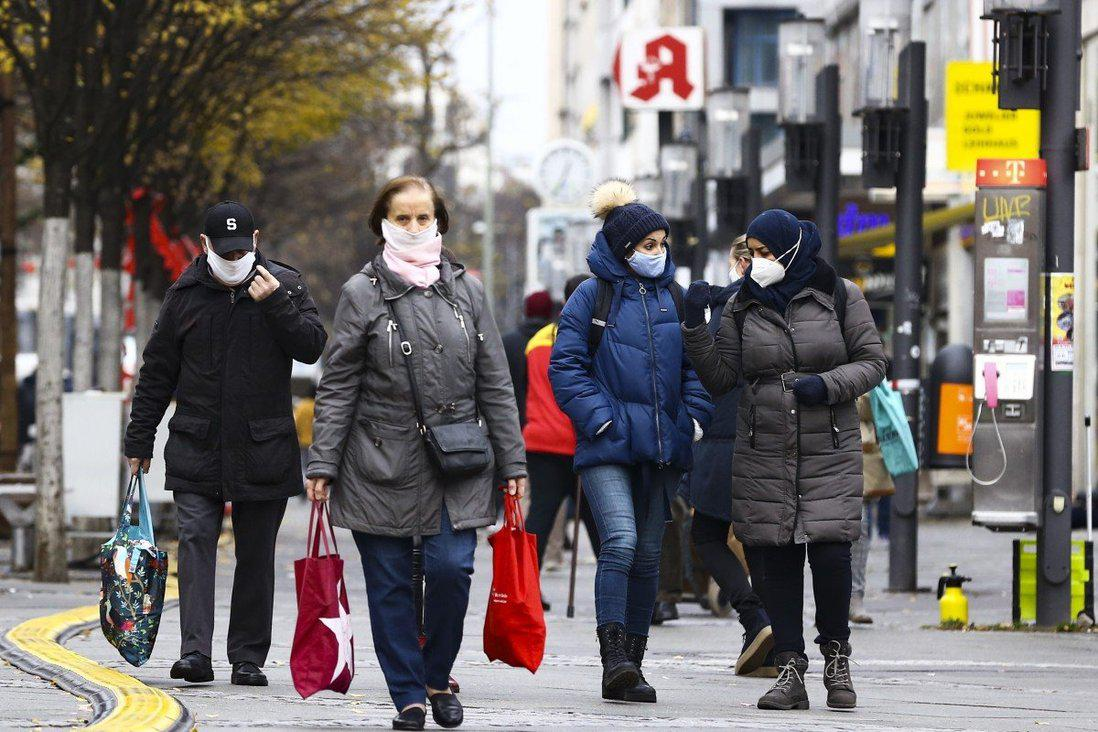with_mask: (368, 179, 450, 269), (600, 200, 680, 282), (190, 208, 269, 289), (742, 210, 812, 290)
